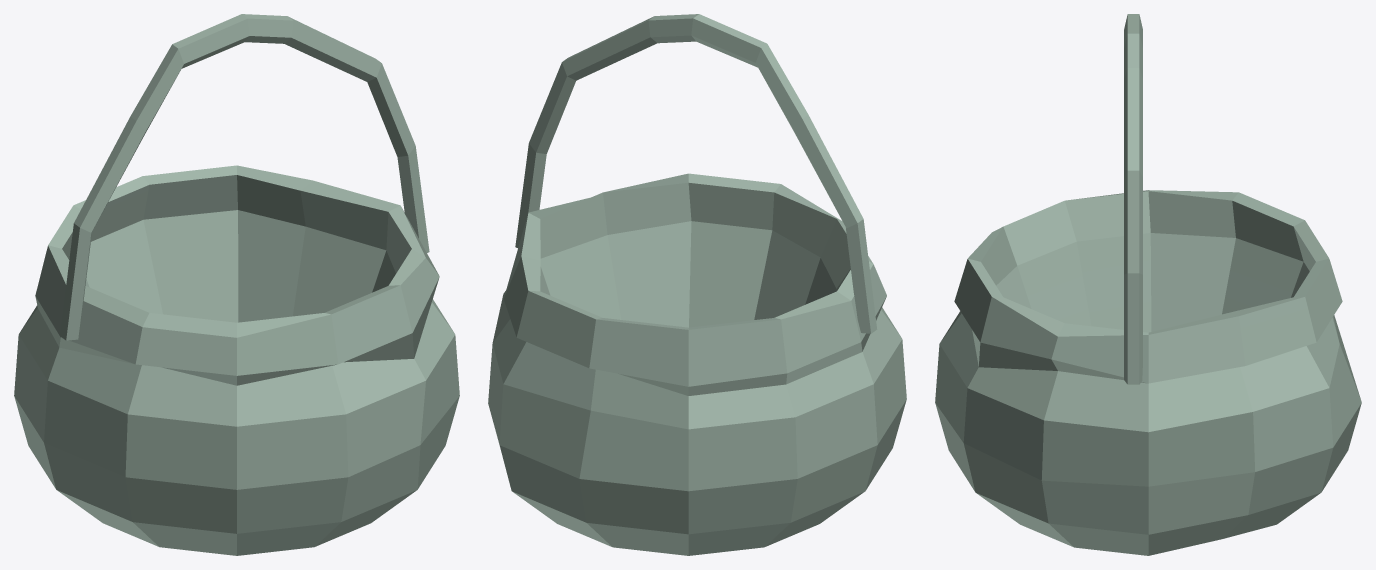
Rendered from SM_L_Calderone.fbx.
3 renders of one model, left to right at view 1: azimuth 30°, elevation 25°; view 2: azimuth 150°, elevation 25°; view 3: azimuth 270°, elevation 25°, orthographic. The views are drawn at different scales.
Visible parts, largest first — view 1: SM_L_Calderone; view 2: SM_L_Calderone; view 3: SM_L_Calderone.
Part boxes in pixels (x1,y1,x2,y2): SM_L_Calderone: [14, 14, 459, 555]; SM_L_Calderone: [488, 14, 906, 555]; SM_L_Calderone: [935, 14, 1361, 555].
Bounding box in the file's own units: 20.03 × 25.27 × 20.23.
